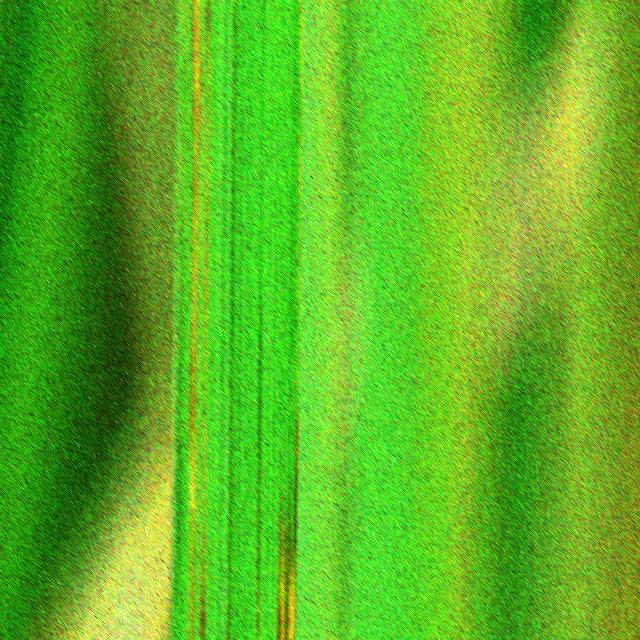BLS: (189, 0, 201, 640), (200, 0, 211, 640), (286, 414, 298, 640), (256, 303, 261, 640), (277, 473, 287, 640)
